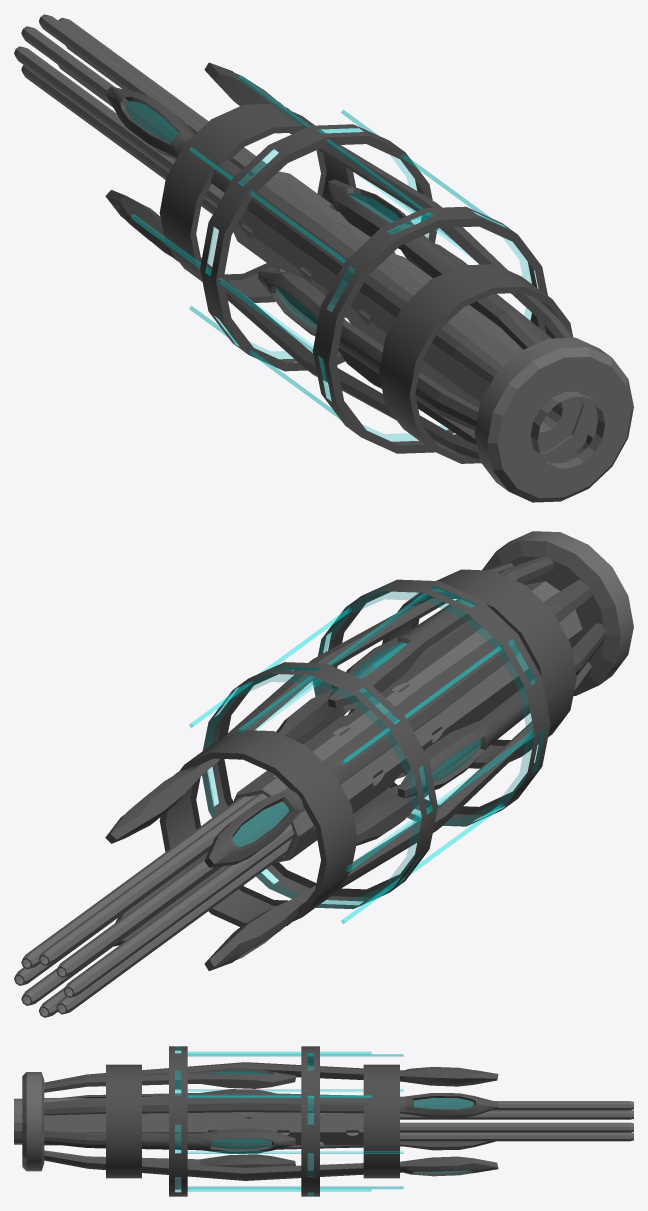
Rendered from Mini_gun_Front.fbx.
3 renders of one model, top to bottom at view 1: azimuth 30°, elevation 25°; view 2: azimuth 150°, elevation 25°; view 3: azimuth 270°, elevation 25°, orthographic. The views are drawn at different scales.
Parts seen in each view (by area): view 1: polySurface719; view 2: polySurface719; view 3: polySurface719.
Part boxes in pixels (x1=…): polySurface719: x1=14, y1=14, x2=633, y2=502; polySurface719: x1=14, y1=531, x2=633, y2=1017; polySurface719: x1=14, y1=1046, x2=633, y2=1196.
Bounding box in the file's own units: 42.84 × 42.84 × 176.
